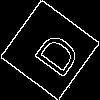D: (25, 24, 83, 80)
